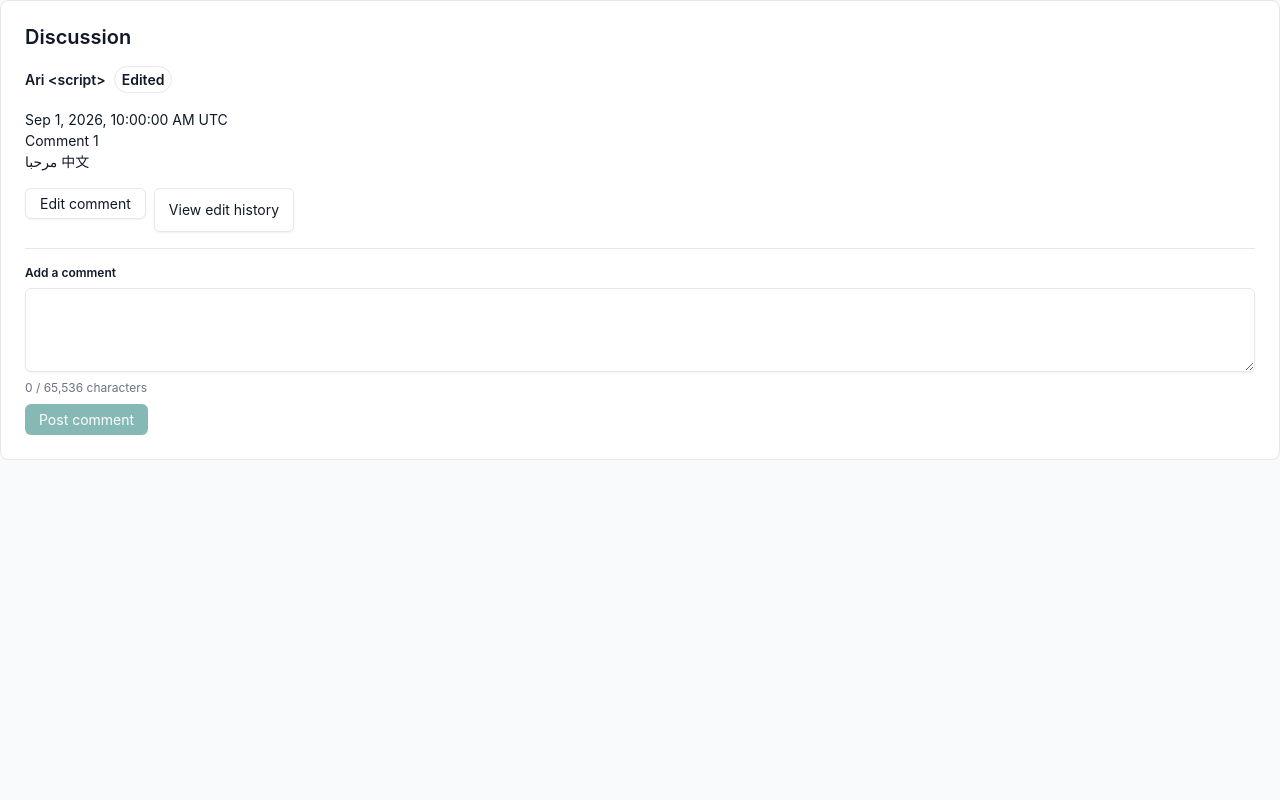
Test: Discussion lifecycle authority › edits only the current author's comment non-optimistically and preserves local text on conflict
Click the button "Edit comment" at point(85, 203), box x1=25 y1=188 x2=146 y2=219
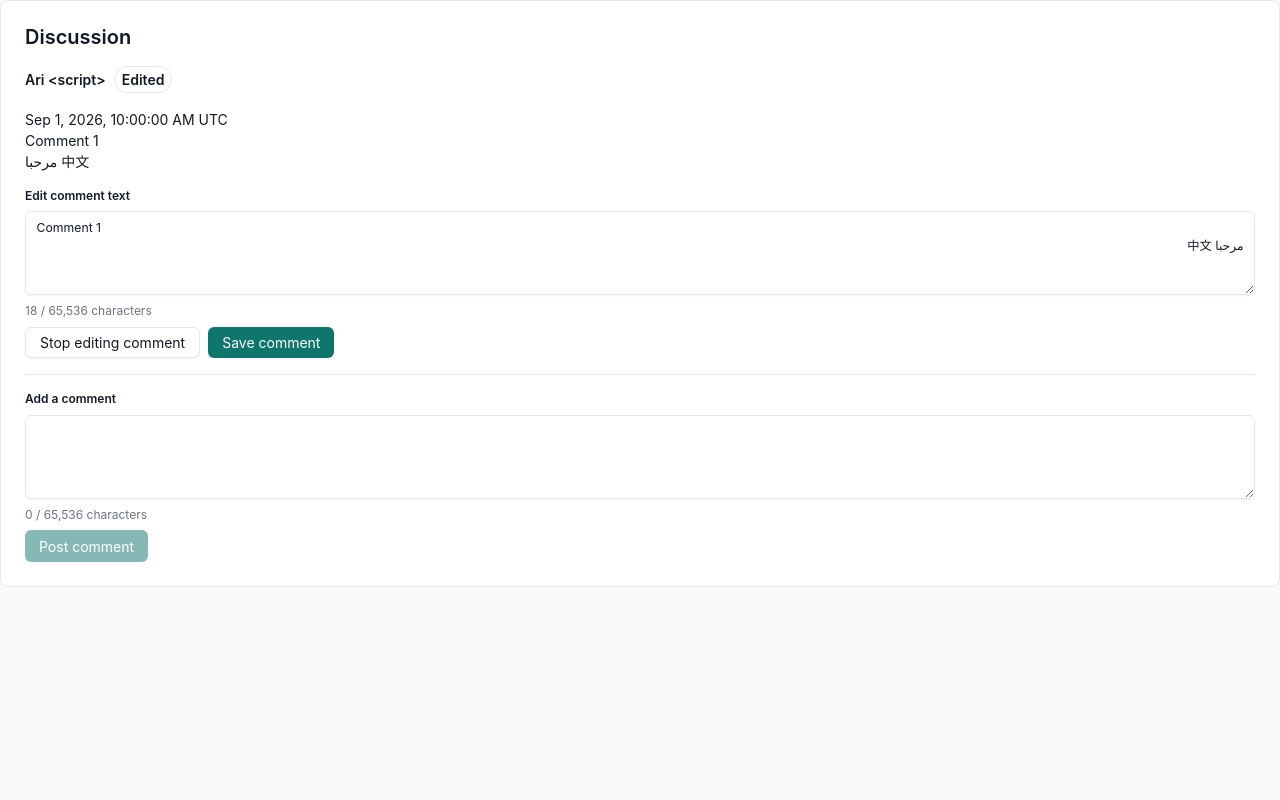
Replace the text in the text box labelled "Edit comment text" with "My local edit" at point(640, 253), box x1=25 y1=211 x2=1255 y2=295
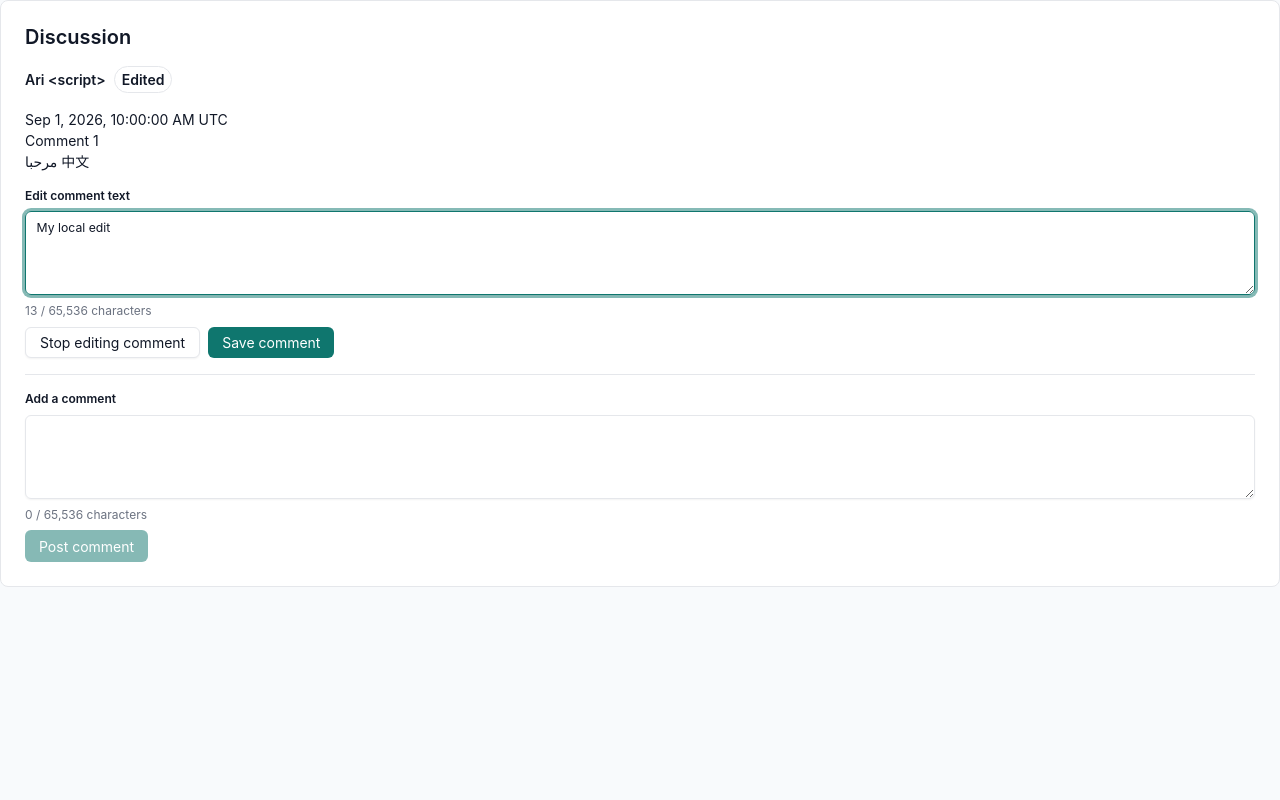
Expected: the text "Comment 1 مرحبا 中文" is shown, x1=25 y1=132 x2=99 y2=170
Click the button "Save comment" at point(271, 342), box x1=208 y1=327 x2=334 y2=358
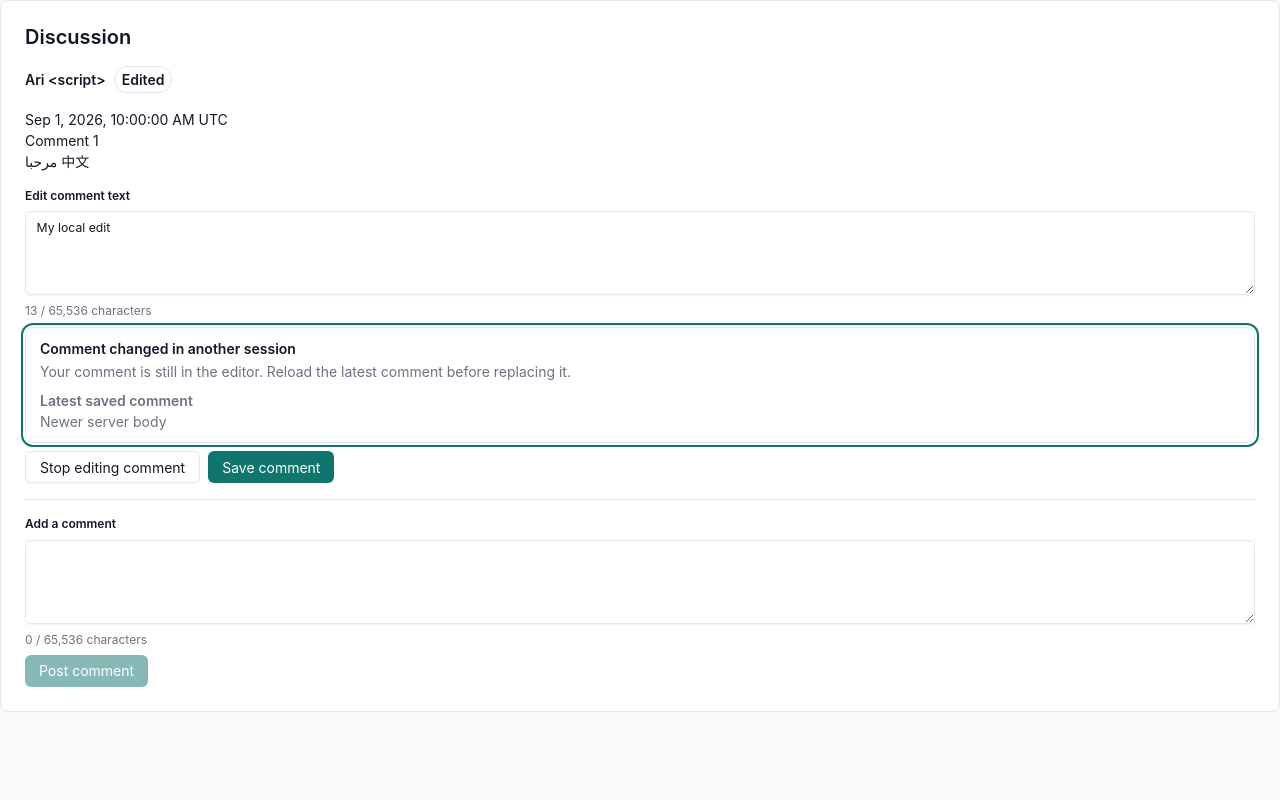
Result: the text "Comment changed in another session" is shown at x1=40 y1=340 x2=296 y2=357
Result: the text "Newer server body" is shown at x1=40 y1=413 x2=166 y2=430
